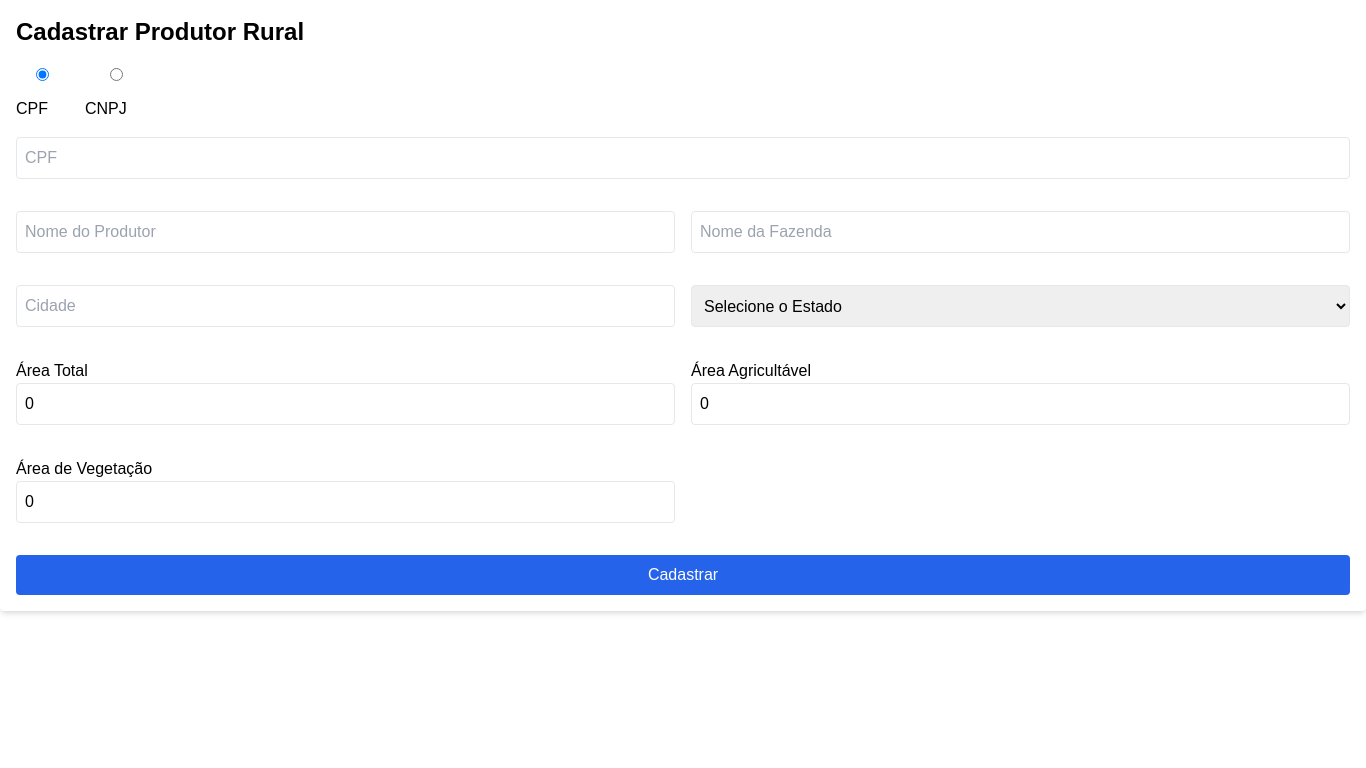
Scenario: ProducerForm › handles CPF/CNPJ toggle
Click the radio button labelled "CNPJ": [116, 74] box [85,68,148,81]
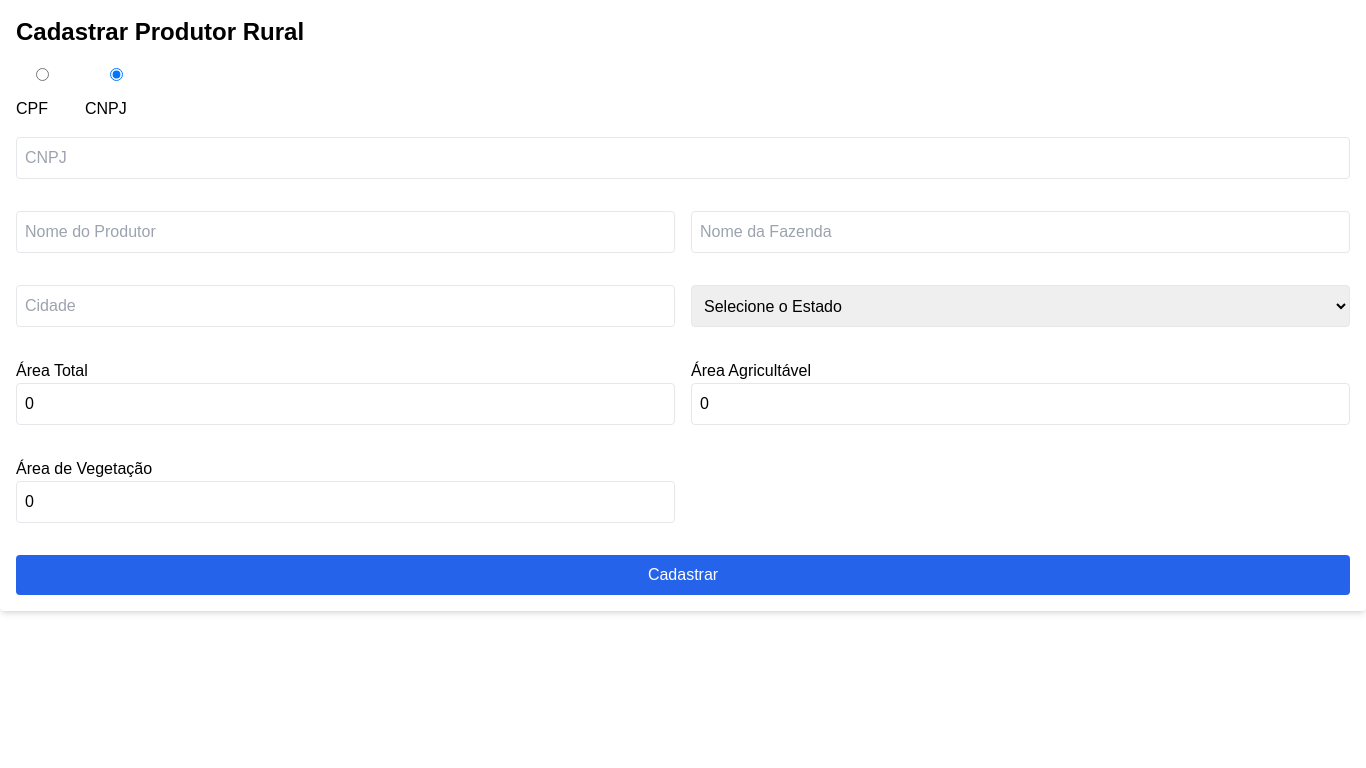
Expected: the field with placeholder "CNPJ" is shown, [16,137,1350,179]
Click the radio button labelled "CPF": [42, 74] box [16,68,69,81]
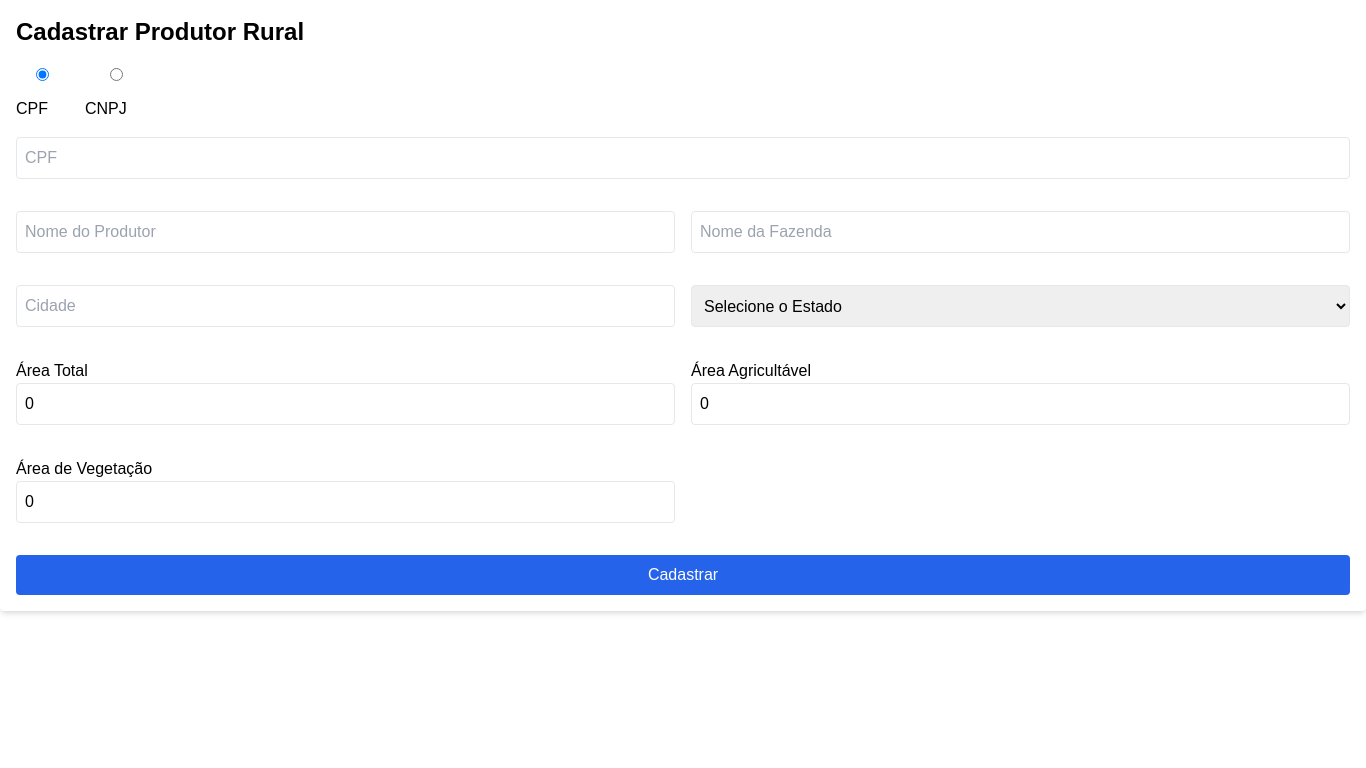
Expected: the field with placeholder "CPF" is shown, [16,137,1350,179]
